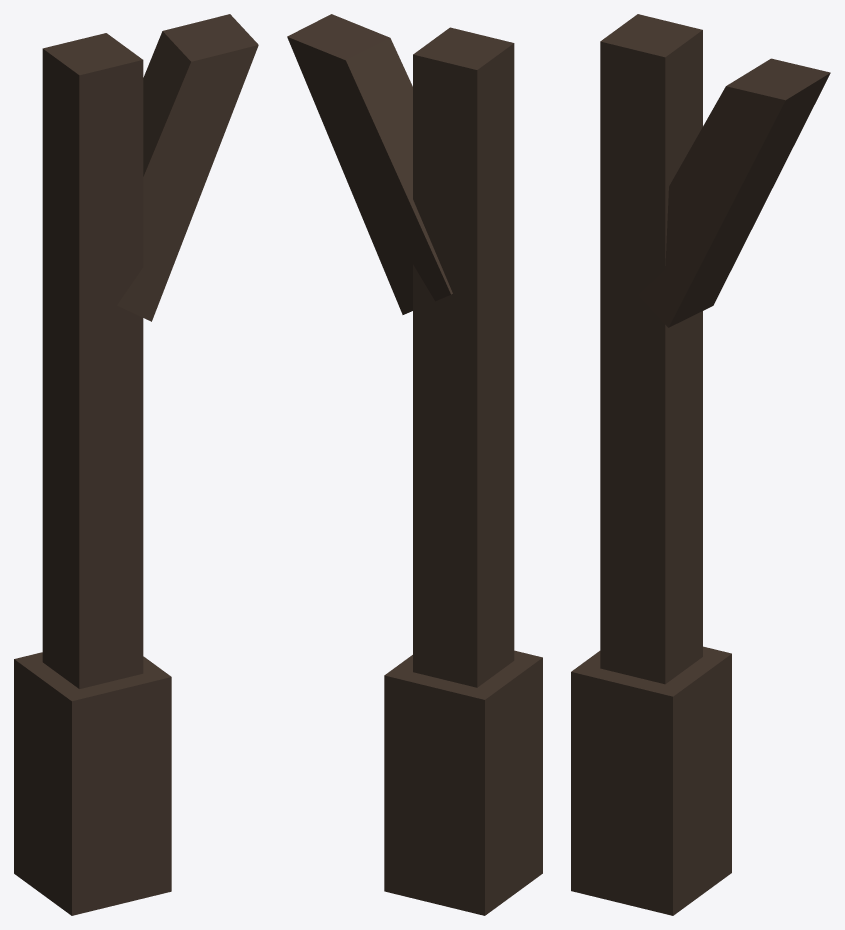
File: pilar.fbx
3 renders of one model, left to right at view 1: azimuth 30°, elevation 25°; view 2: azimuth 150°, elevation 25°; view 3: azimuth 330°, elevation 25°, orthographic. The views are drawn at different scales.
Visible parts, largest first — view 1: Cube.204; view 2: Cube.204; view 3: Cube.204.
Part boxes in pixels (x1,y1,x2,y2): Cube.204: (14,14,258,915); Cube.204: (287,14,542,915); Cube.204: (571,14,830,915).
Bounding box in the file's own units: 175 × 672 × 84.76.
